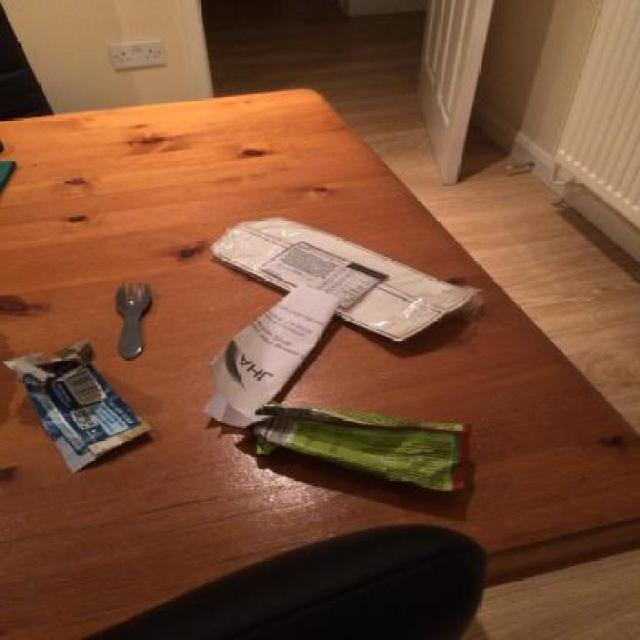paper: (200, 284, 342, 428)
plastic: (207, 216, 484, 344), (236, 404, 473, 496), (2, 337, 152, 475)
